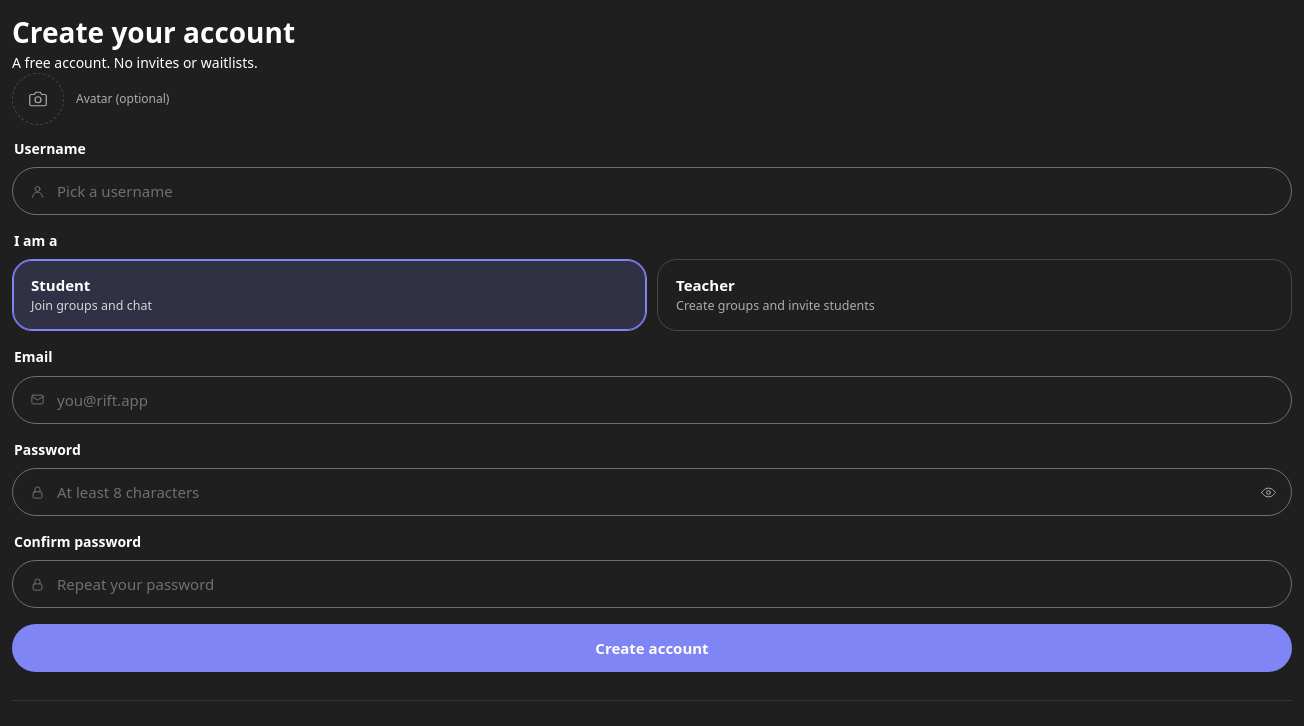
Test: asks to repeat the password and stops when it differs
This screenshot has width=1304, height=726.
Type "alice" into the field with placeholder "Pick a username" at (652,191), box [12,167,1292,215]
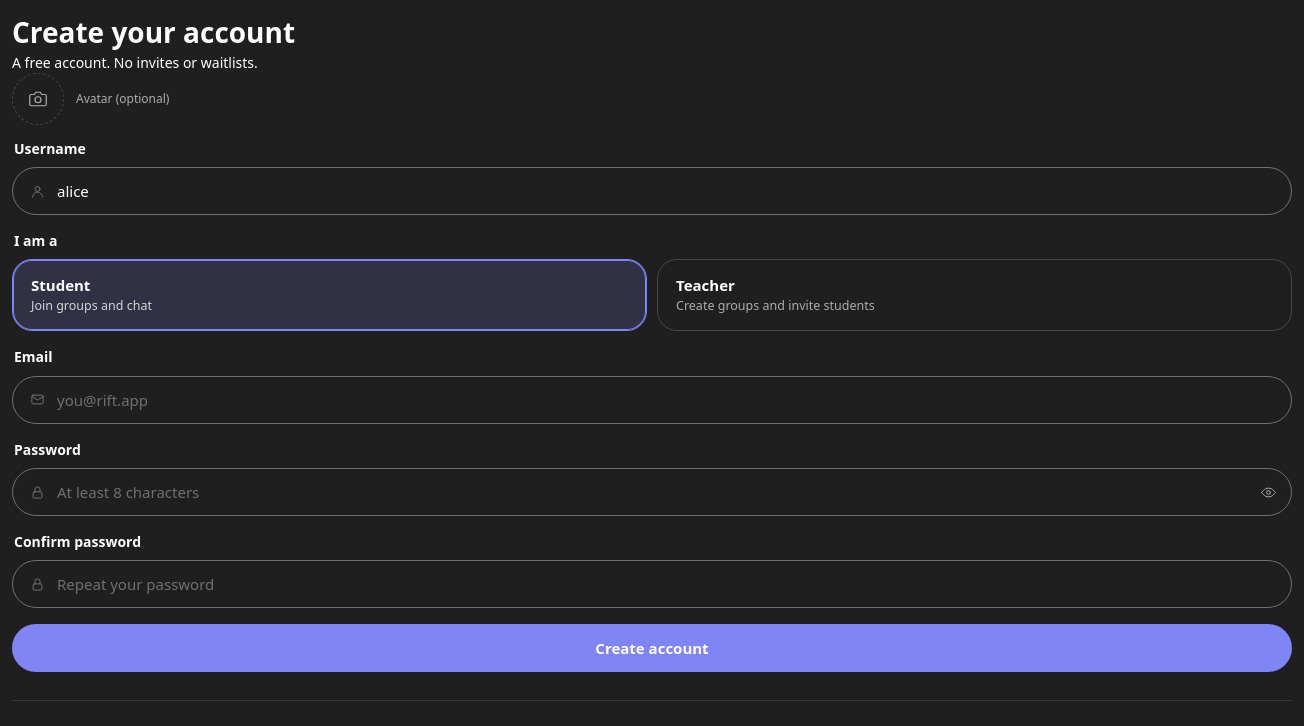
Type "alice@rift.app" into the field with placeholder "you@rift.app" at (652,400), box [12,376,1292,424]
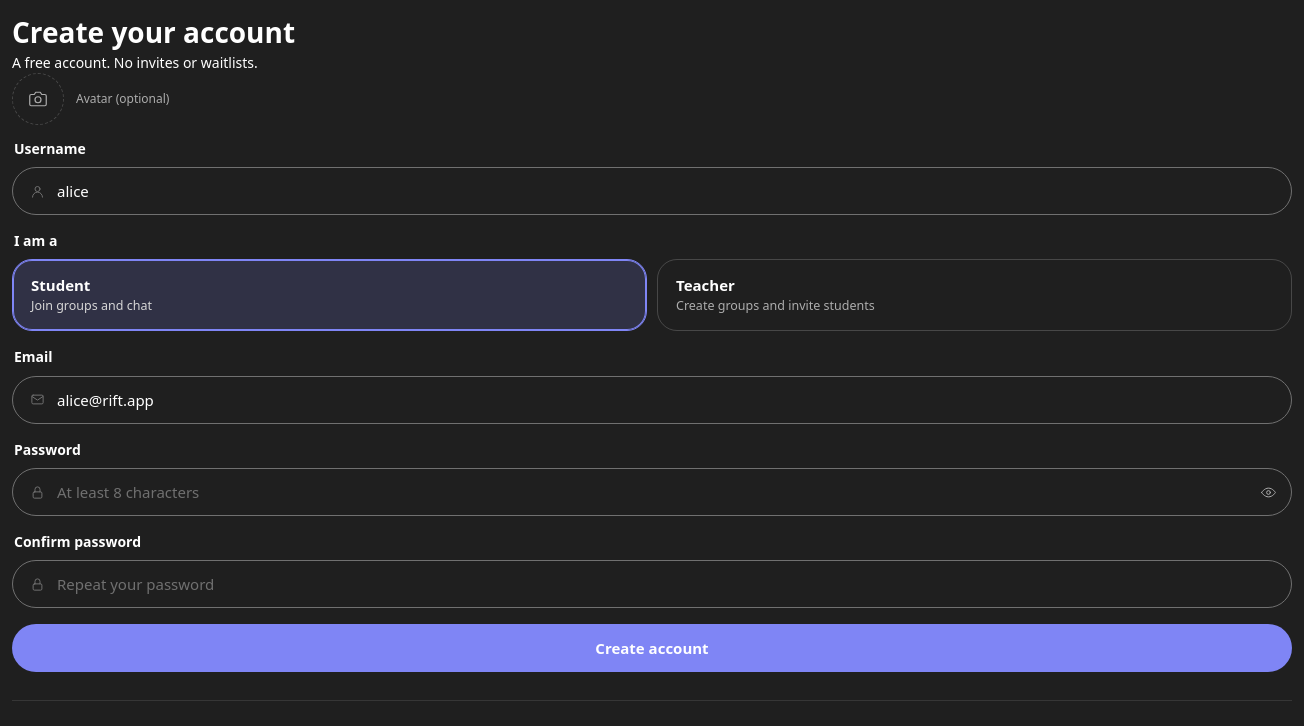
Type "secret-1" into the password field with placeholder "At least 8 characters" at (652,492), box [12,468,1292,516]
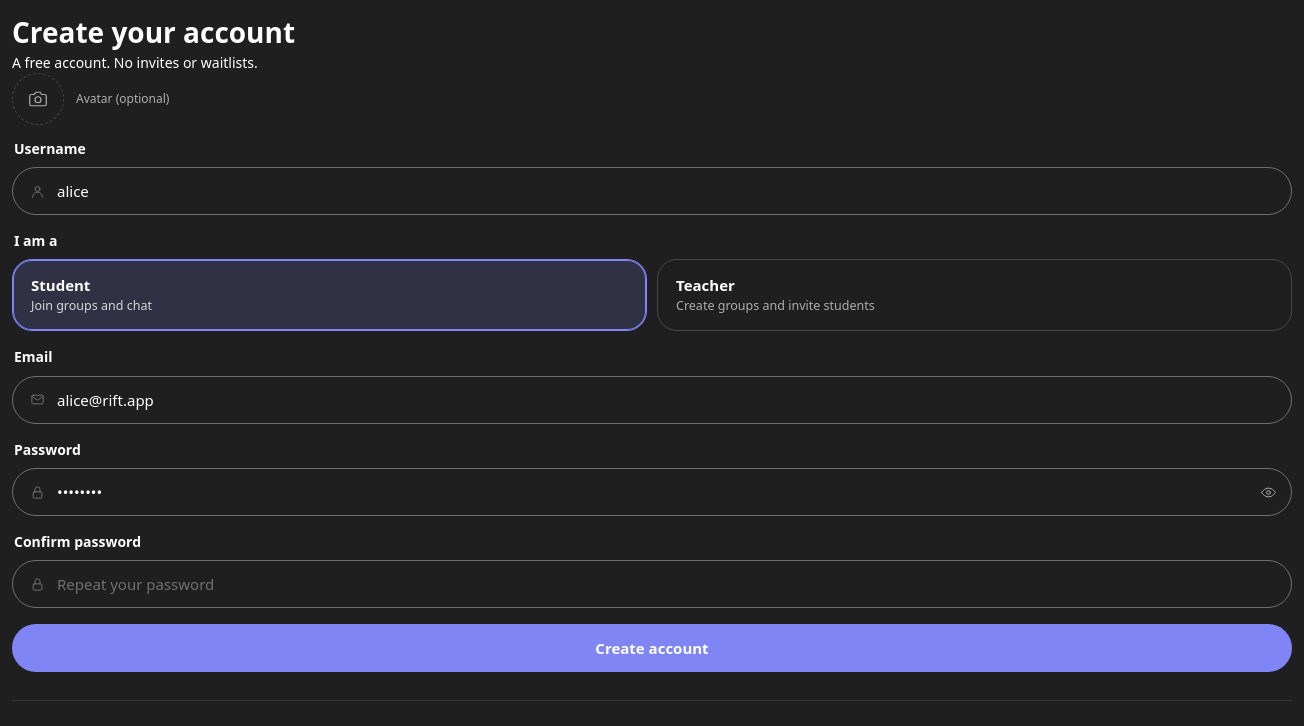
Type "secret-2" into the password field with placeholder "Repeat your password" at (652,584), box [12,560,1292,608]
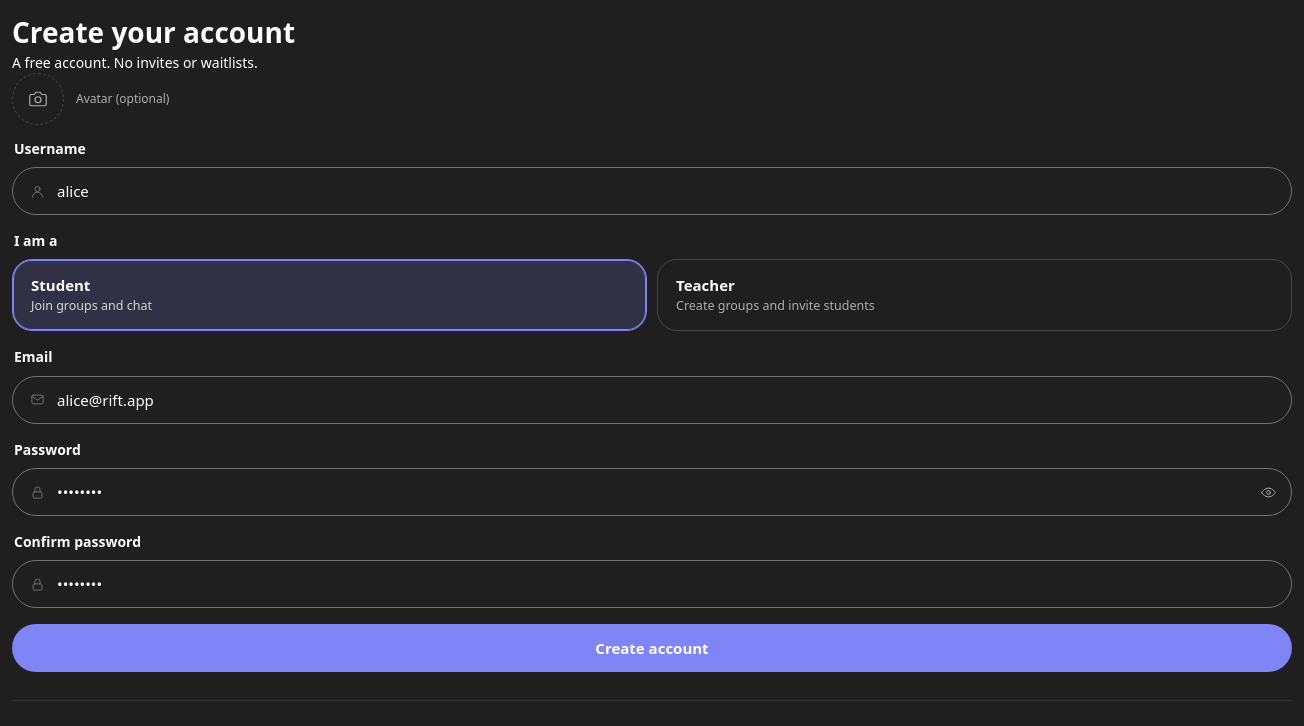
Click the button "Create account" at (652,648), box [12,624,1292,672]
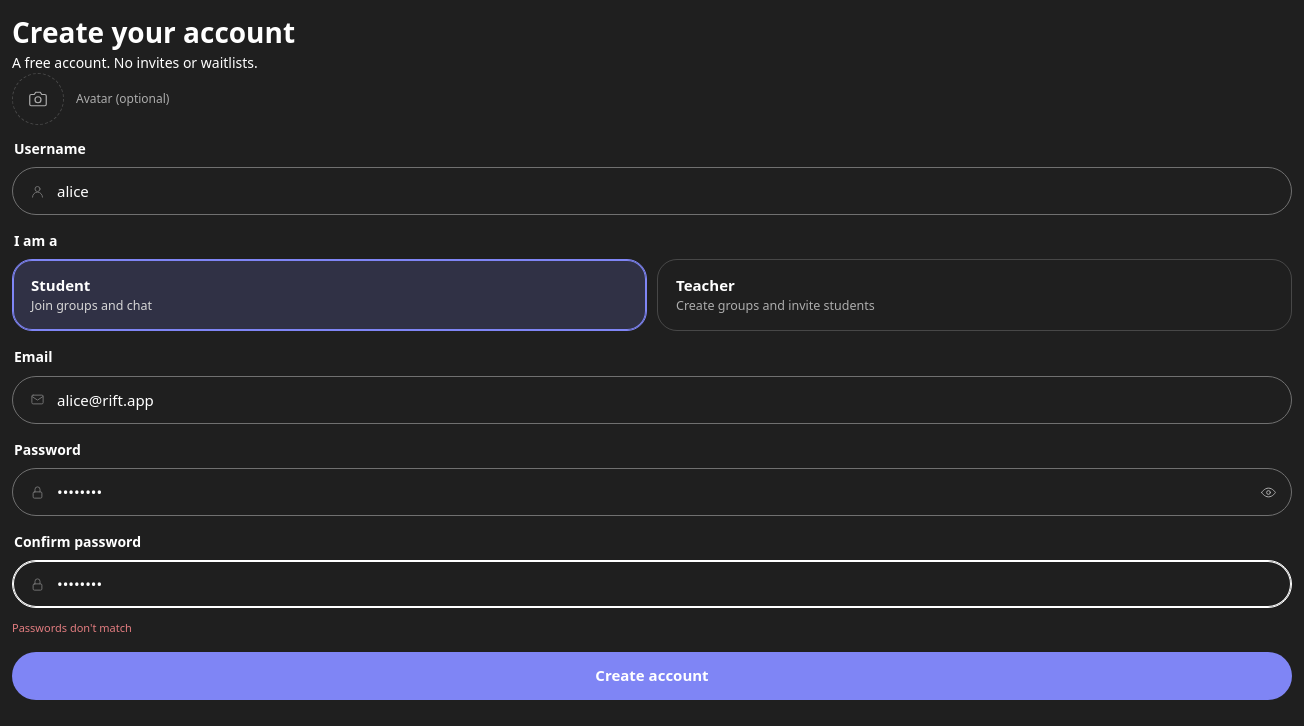
Now the text "Passwords don't match" is shown, box [12,620,132,635]
